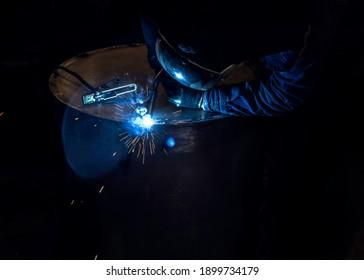gloves: (166, 84, 204, 111)
